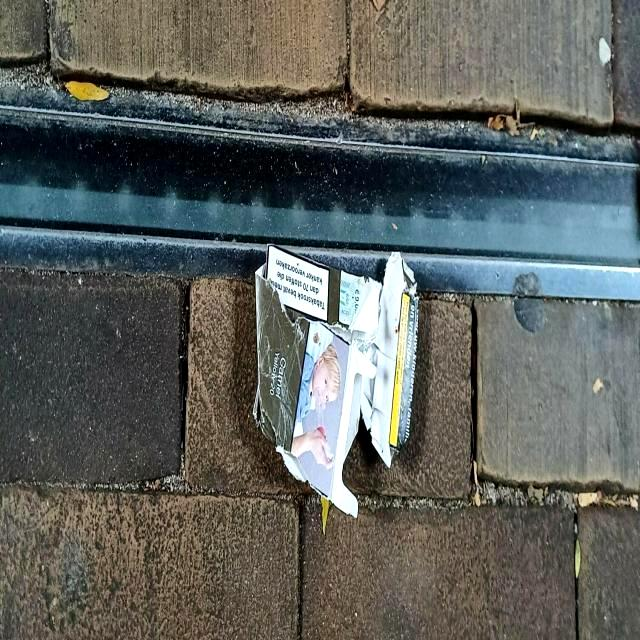Paper: (248, 240, 422, 540)
